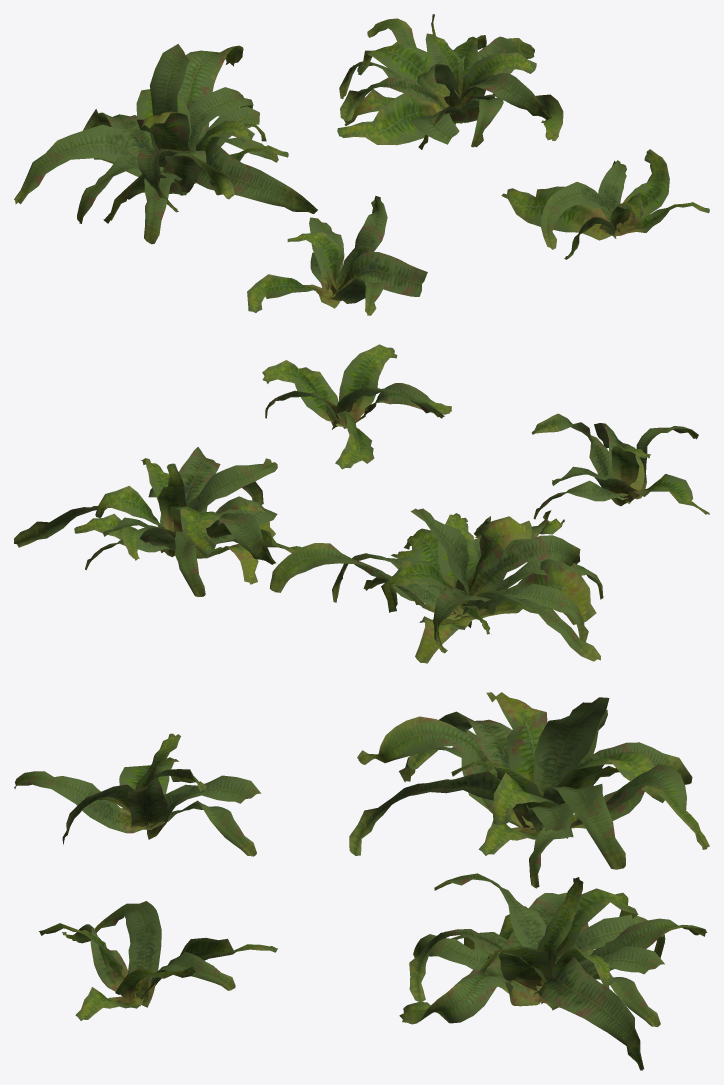
Rendered from fern_02.glb.
3 views of the same model, one above another, from view 1: azimuth 30°, elevation 25°; view 2: azimuth 150°, elevation 25°; view 3: azimuth 270°, elevation 25° (orthographic). The views are drawn at different scales.
Parts seen in each view (by area): view 1: fern_02_b; view 2: fern_02_b; view 3: fern_02_b.
Part boxes in pixels (box(x1,y1,x2,y2)): fern_02_b: box(14, 14, 709, 315); fern_02_b: box(14, 344, 709, 663); fern_02_b: box(14, 692, 709, 1070).
Bounding box in the file's own units: 1.97 × 0.4277 × 1.72.
Materials: 1 (1 with a texture image).
